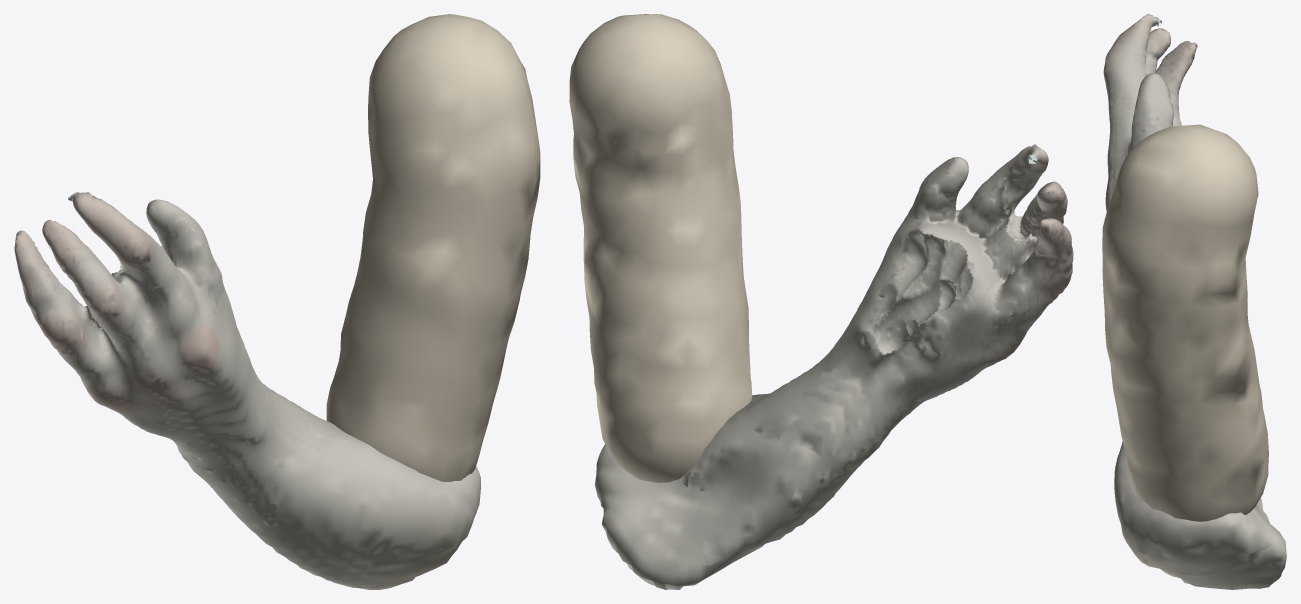
File: demonarm.gltf
3 views of the same model, side by side, from view 1: azimuth 30°, elevation 25°; view 2: azimuth 150°, elevation 25°; view 3: azimuth 270°, elevation 25° (orthographic). The views are drawn at different scales.
Visible parts, largest first — view 1: node-0; view 2: node-0; view 3: node-0.
Boxes of the visible parts, <box> form: node-0: <box>14,14,540,589</box>; node-0: <box>569,14,1073,589</box>; node-0: <box>1102,14,1286,589</box>.
Bounding box in the file's own units: 2.97 × 3.08 × 1.07.
